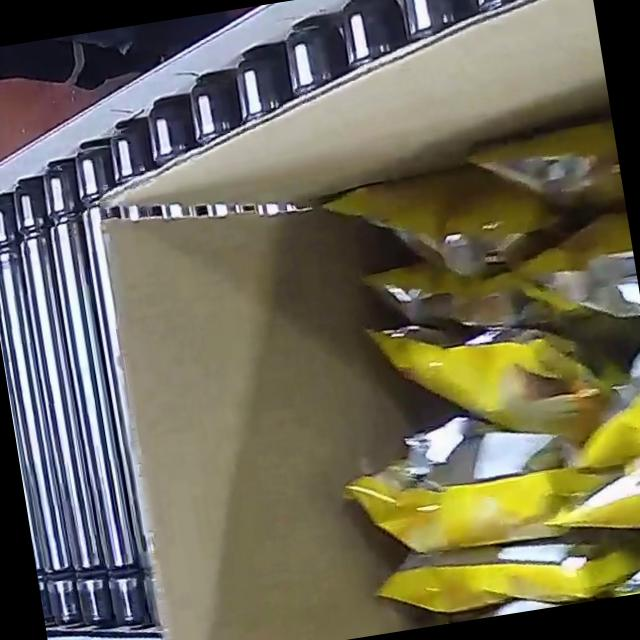salted: (295, 131, 640, 636)
